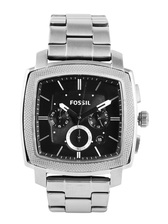watch: (17, 13, 154, 215)
